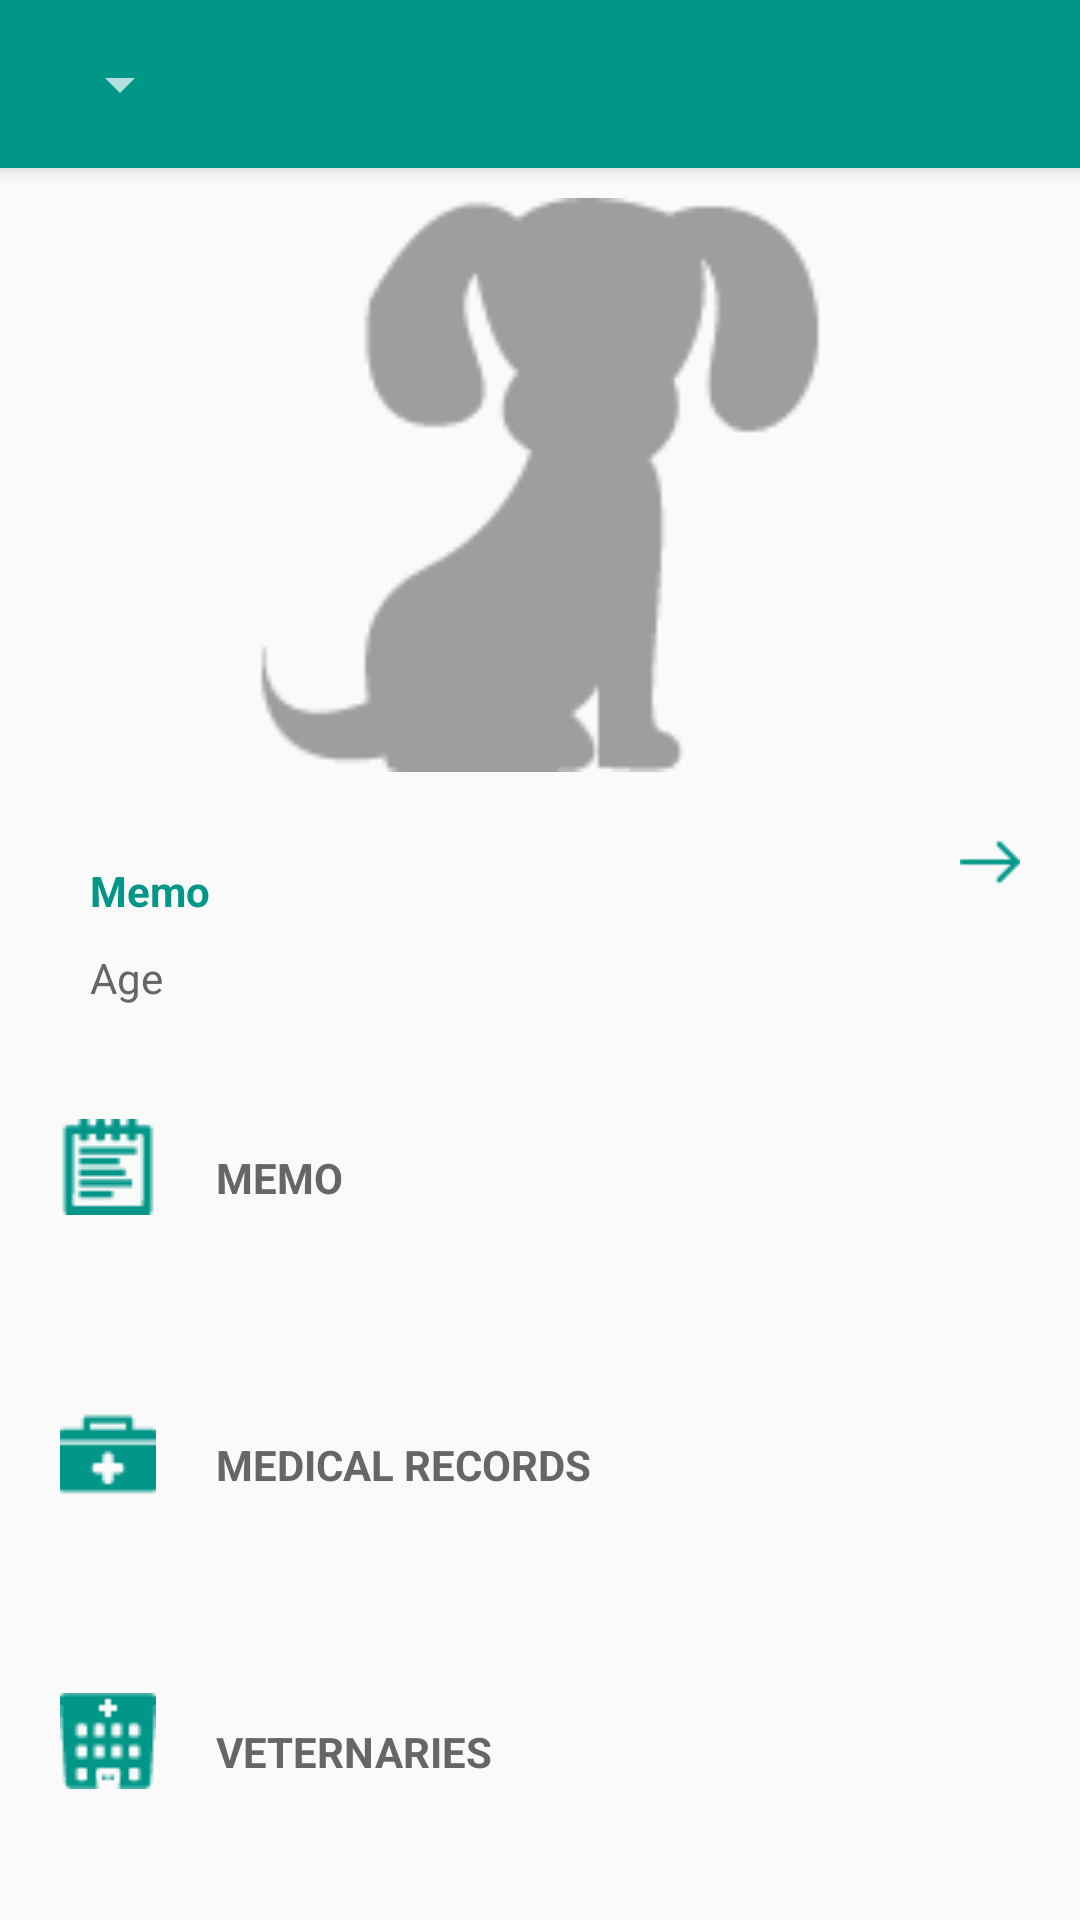

Screen size 1080px×1920px. Icon name, then its box in pixels as (x1, y1, x2, y2):
memmo: (62, 1119, 154, 1215)
vetrenary: (60, 1693, 156, 1789)
